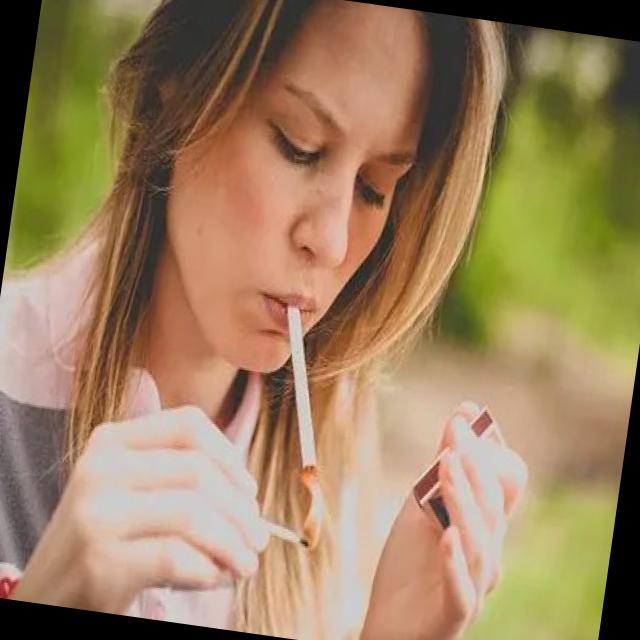smoke: (259, 298, 342, 480)
